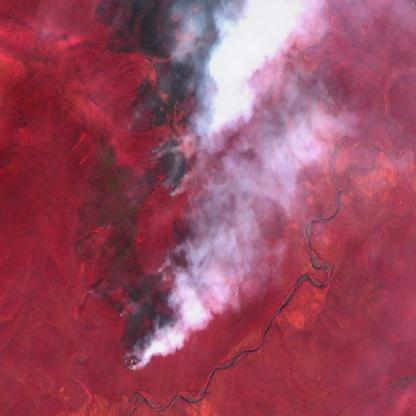fire: (142, 42, 233, 206), (116, 264, 184, 372)
